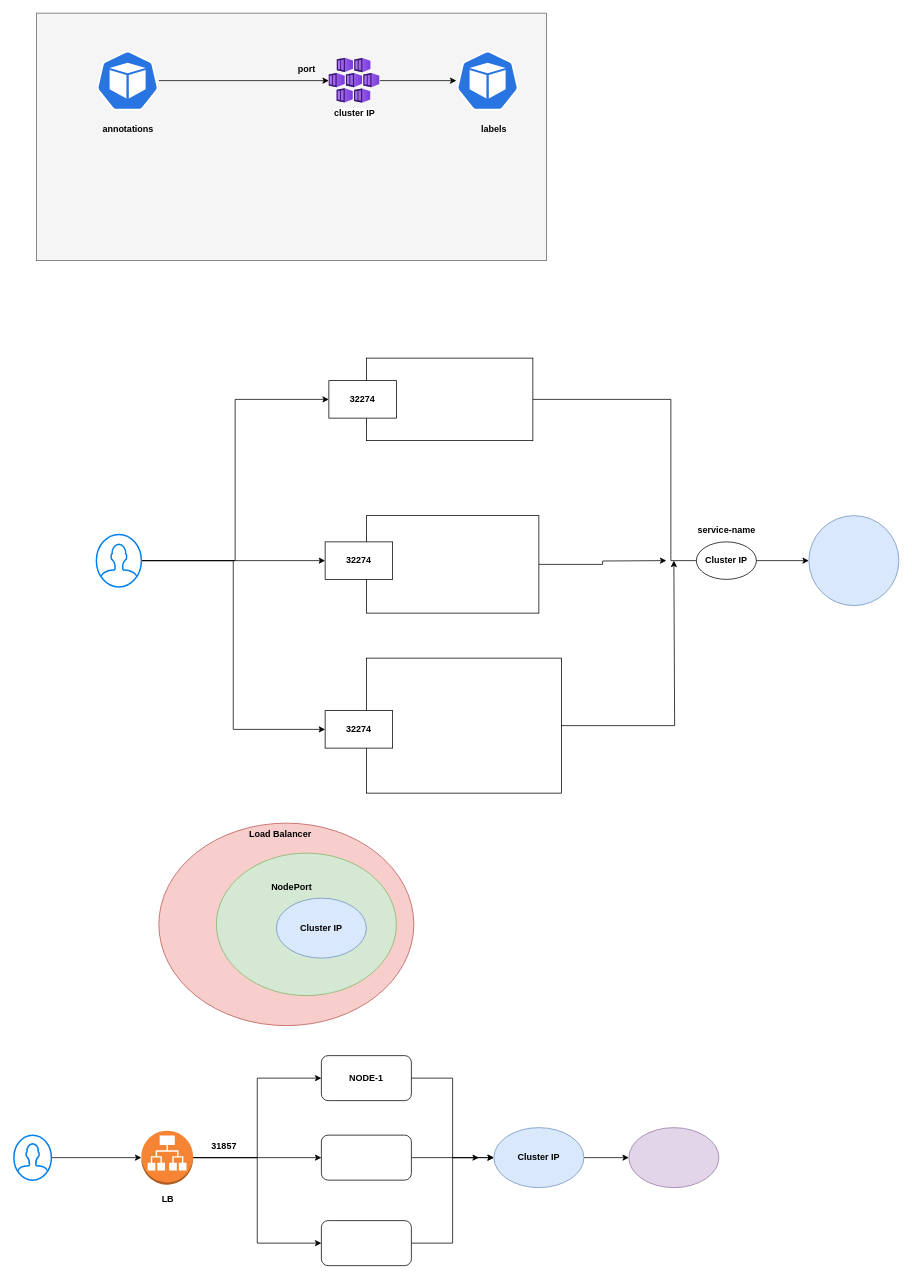
This 912x1279 diagram has some shape labels left out. The centre of each missing label's shape, as x and y in pixels:
nginx: point (853, 560)
Pod: point (673, 1157)
